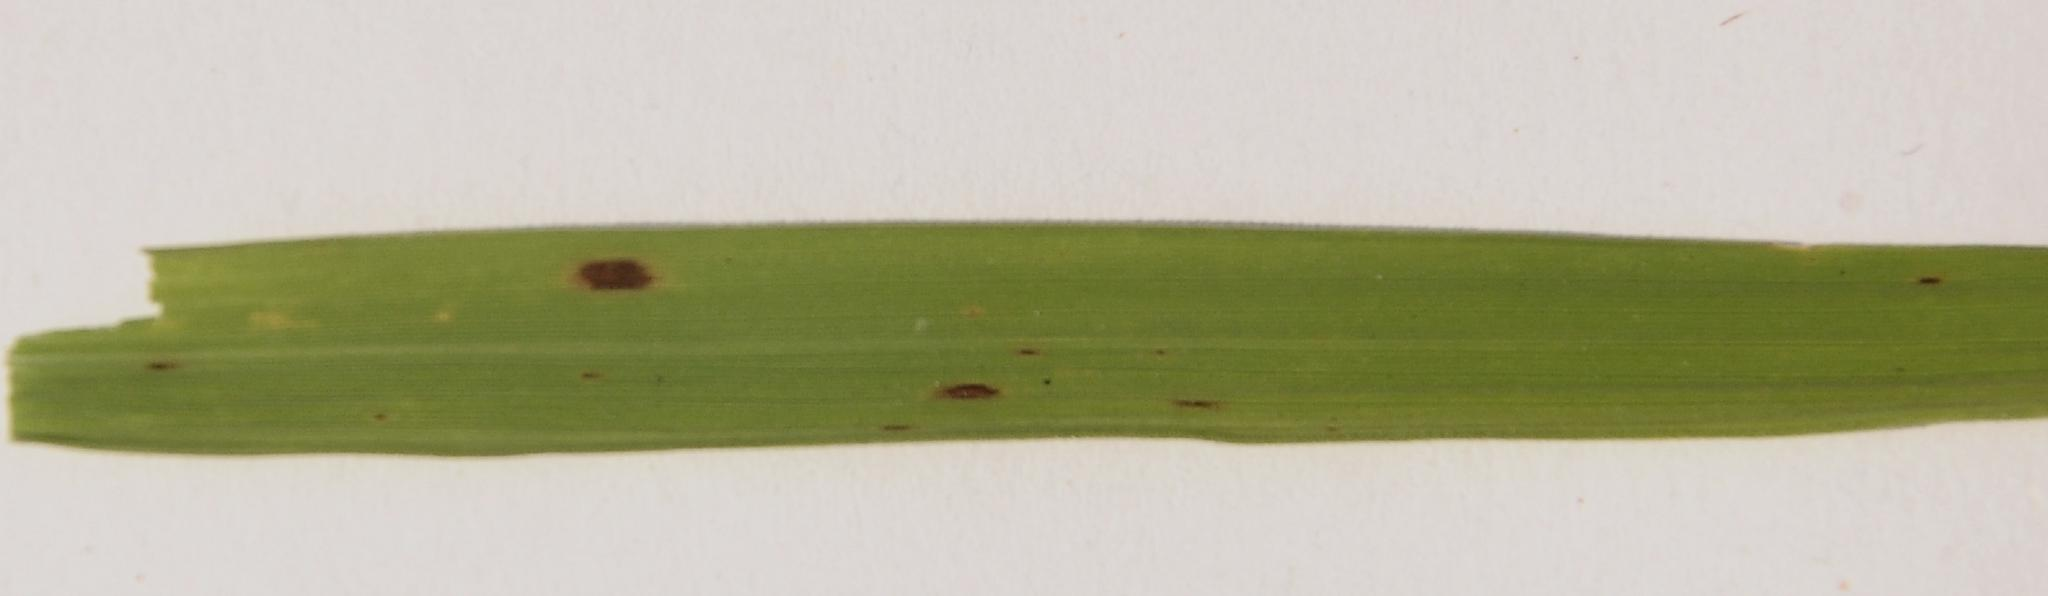0 BrownSpot: (538, 230, 704, 312), (897, 354, 1038, 422), (118, 332, 210, 406), (1157, 380, 1245, 426), (1891, 255, 1967, 303)
